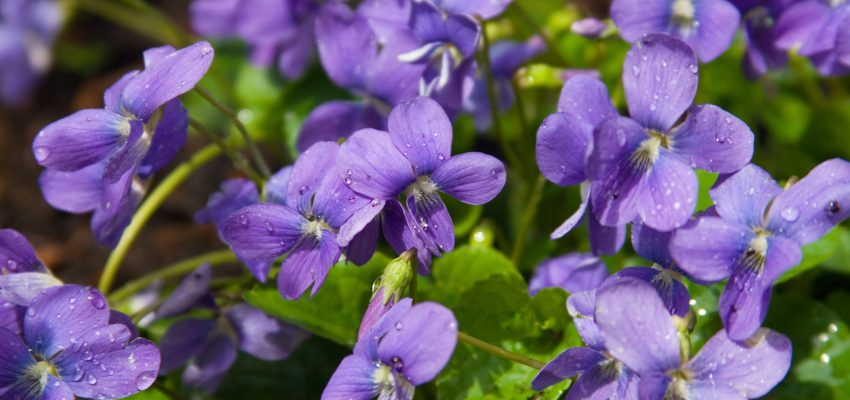violet: (515, 268, 798, 400), (553, 31, 755, 214), (37, 39, 200, 226), (686, 164, 847, 346), (2, 230, 172, 397), (326, 115, 509, 244), (322, 294, 454, 400)
